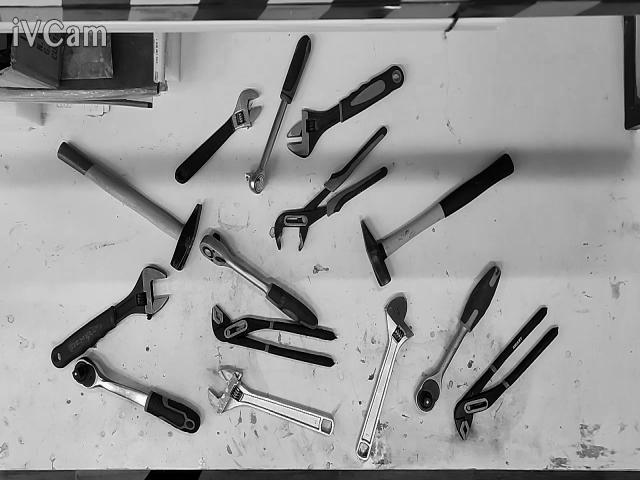Adjustable spanner: (51, 265, 169, 368), (285, 65, 404, 158), (356, 293, 414, 461), (208, 365, 334, 437), (175, 88, 262, 183)
Gas wrench: (270, 127, 388, 250), (454, 307, 559, 440), (211, 305, 336, 366)
Hammer: (361, 153, 514, 287), (58, 142, 201, 270)
Ratchet: (416, 265, 501, 412), (200, 233, 319, 329), (245, 35, 311, 192), (72, 357, 200, 432)
